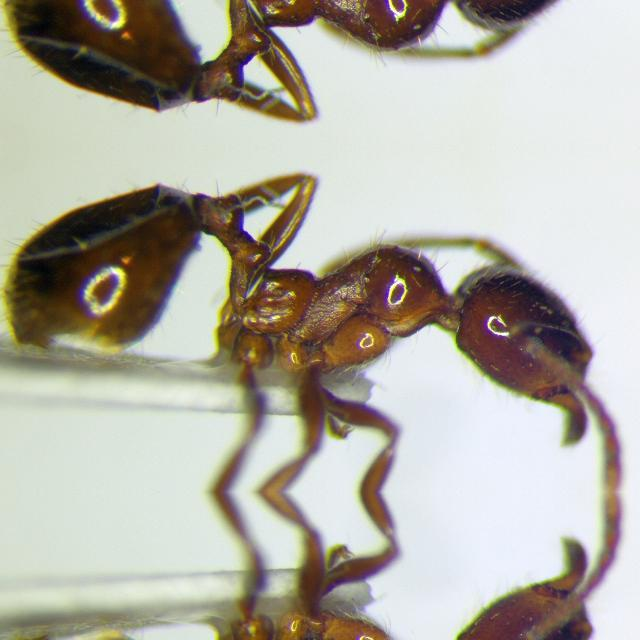Apheanogaster: (25, 188, 640, 486), (24, 496, 638, 640), (23, 0, 638, 104)
